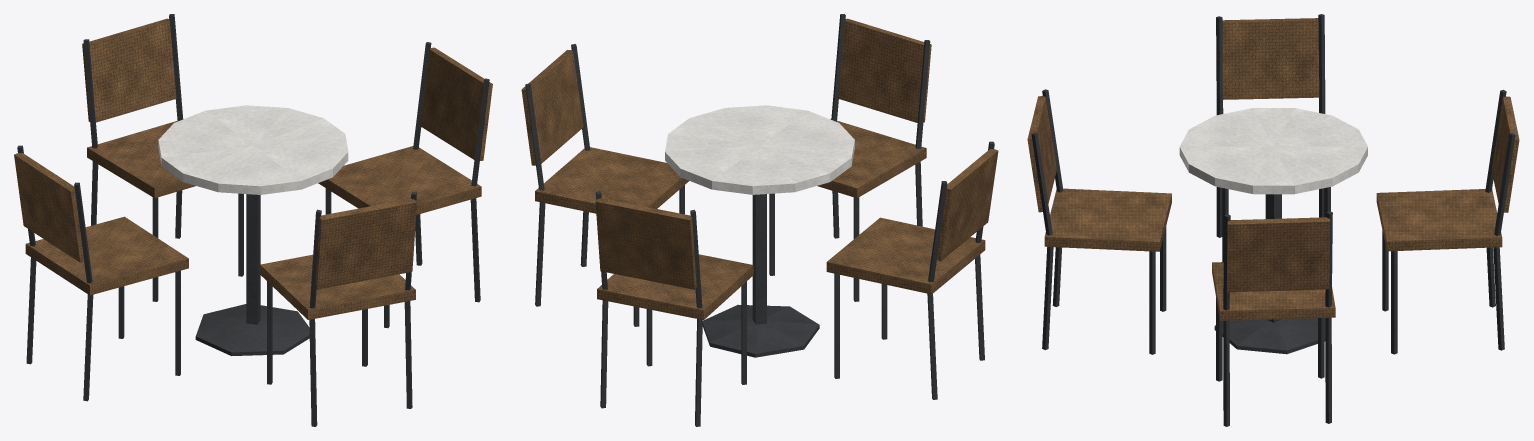
File: SM_Morin_TavoloSet_LOD1.fbx
3 renders of one model, left to right at view 1: azimuth 30°, elevation 25°; view 2: azimuth 150°, elevation 25°; view 3: azimuth 270°, elevation 25°, orthographic.
Parts seen in each view (by area): view 1: SM_Morin_TavoloSet_LOD1; view 2: SM_Morin_TavoloSet_LOD1; view 3: SM_Morin_TavoloSet_LOD1.
Part boxes in pixels (box(x1,y1,x2,y2)): SM_Morin_TavoloSet_LOD1: box(14, 14, 492, 426); SM_Morin_TavoloSet_LOD1: box(521, 14, 998, 426); SM_Morin_TavoloSet_LOD1: box(1027, 14, 1519, 426).
Bounding box in the file's own units: 182 × 183 × 88.22.
1 material, 1 textured.
